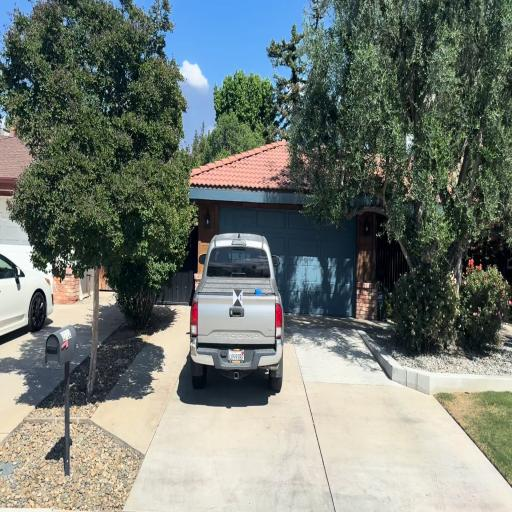target1: (233, 289, 242, 306)
